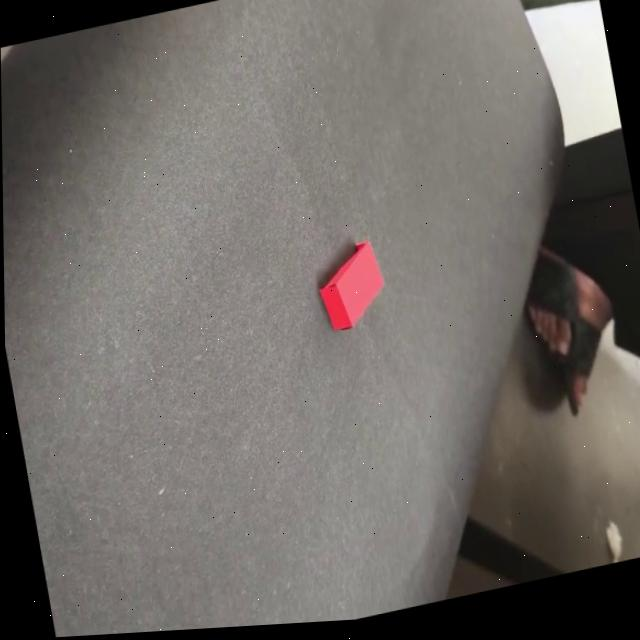red block: (312, 236, 392, 336)
